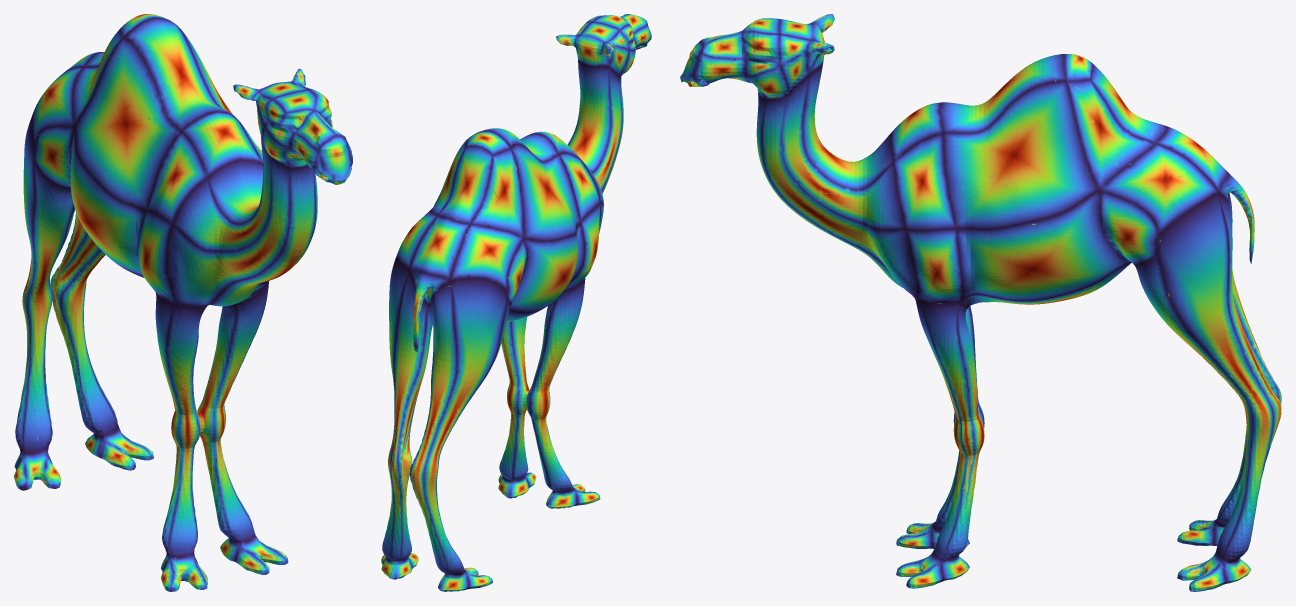
The model's file is gen3.glb.
3 renders of one model, left to right at view 1: azimuth 30°, elevation 25°; view 2: azimuth 150°, elevation 25°; view 3: azimuth 270°, elevation 25°, orthographic. The views are drawn at different scales.
Parts seen in each view (by area): view 1: Node; view 2: Node; view 3: Node.
Boxes of the visible parts, x1,y1,x2,y2 form: Node: (14, 14, 352, 591); Node: (381, 14, 651, 591); Node: (680, 14, 1281, 591).
Size of the model in its own units: 0.4329 by 1.39 by 1.41.
Materials: 1 (1 with a texture image).
